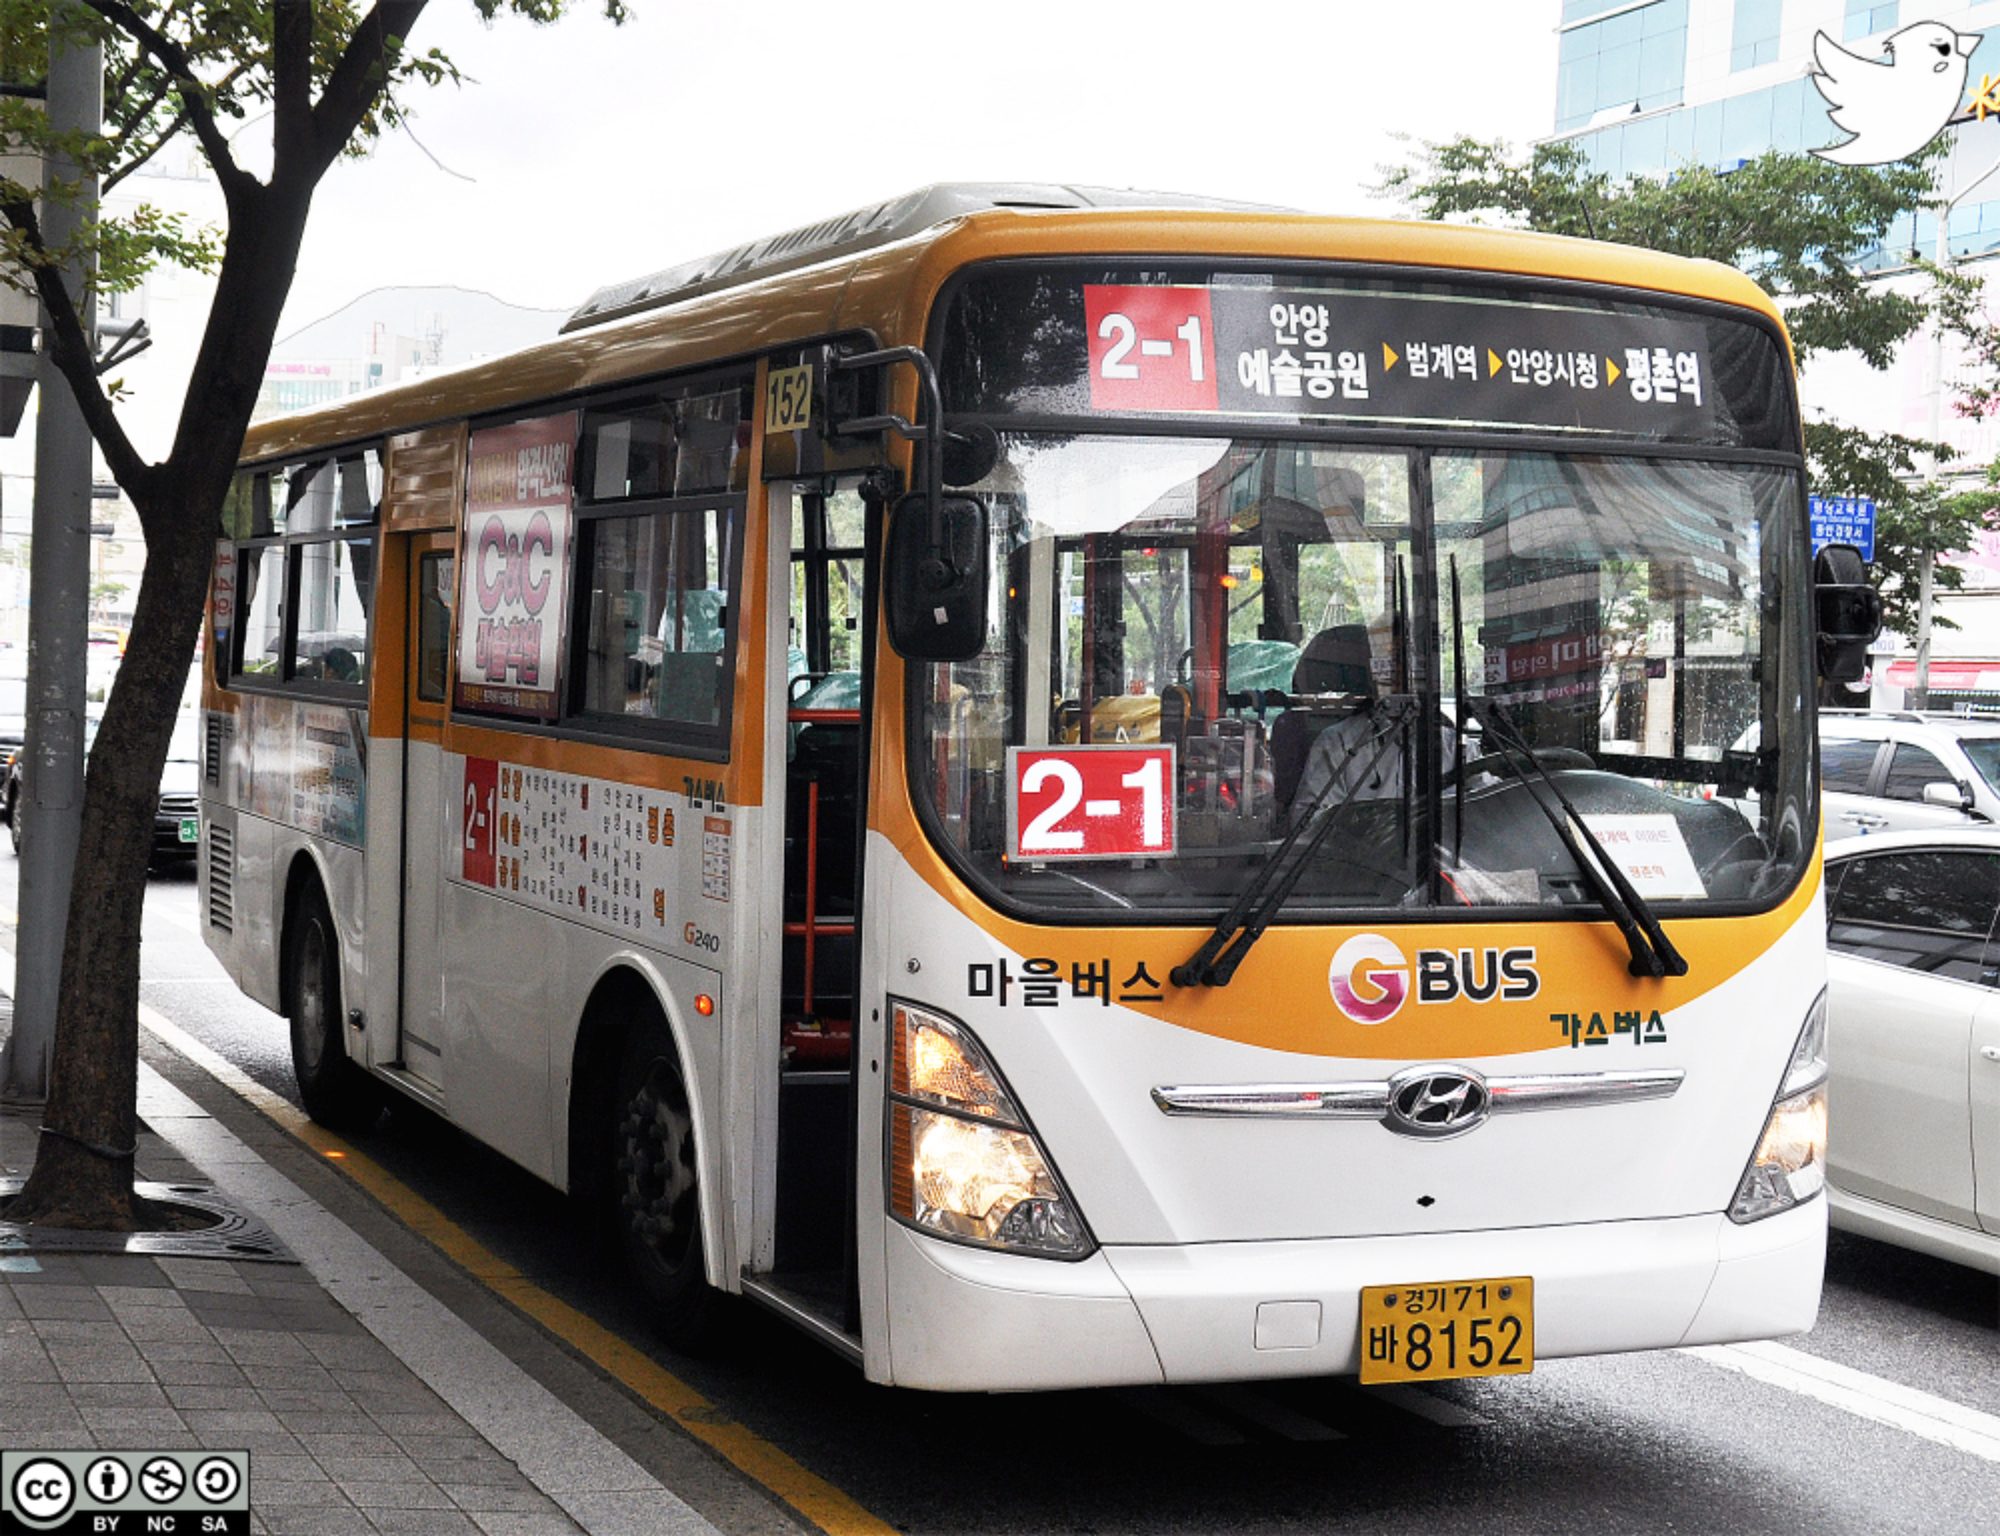bnum: (1013, 750, 1168, 850)
